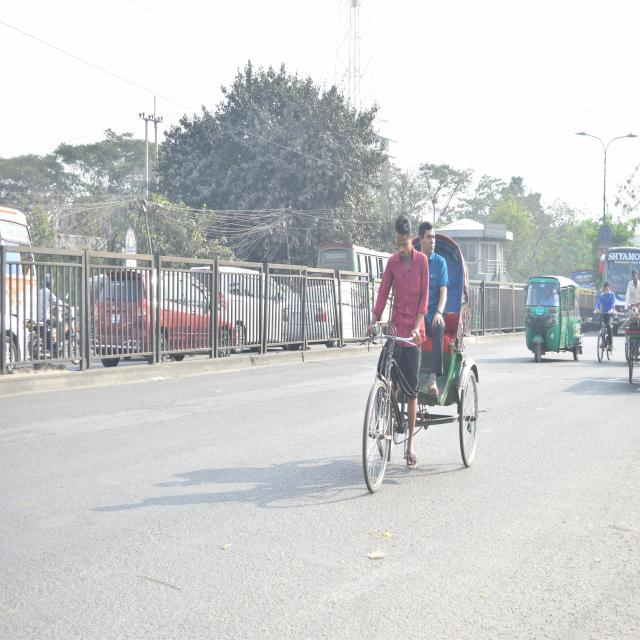bus: (320, 234, 403, 290)
car: (93, 252, 226, 371), (597, 244, 640, 344)
microbus: (211, 249, 289, 359)
motorbike: (19, 316, 88, 374)
